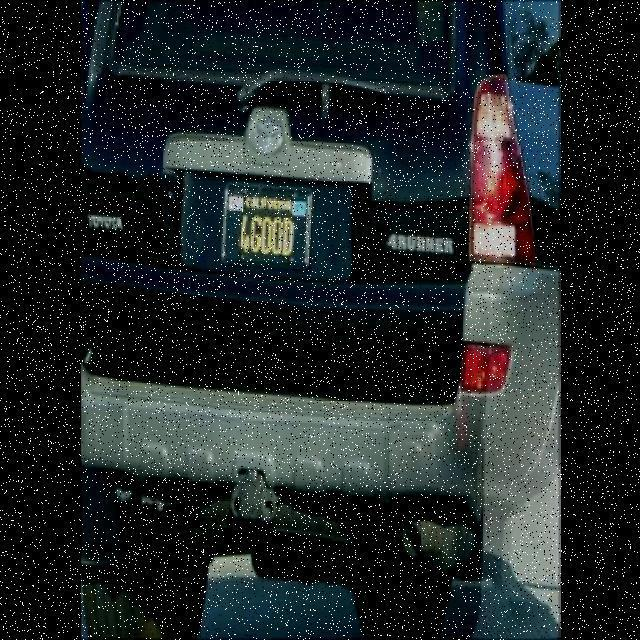LicensePlate: (225, 171, 310, 264)
